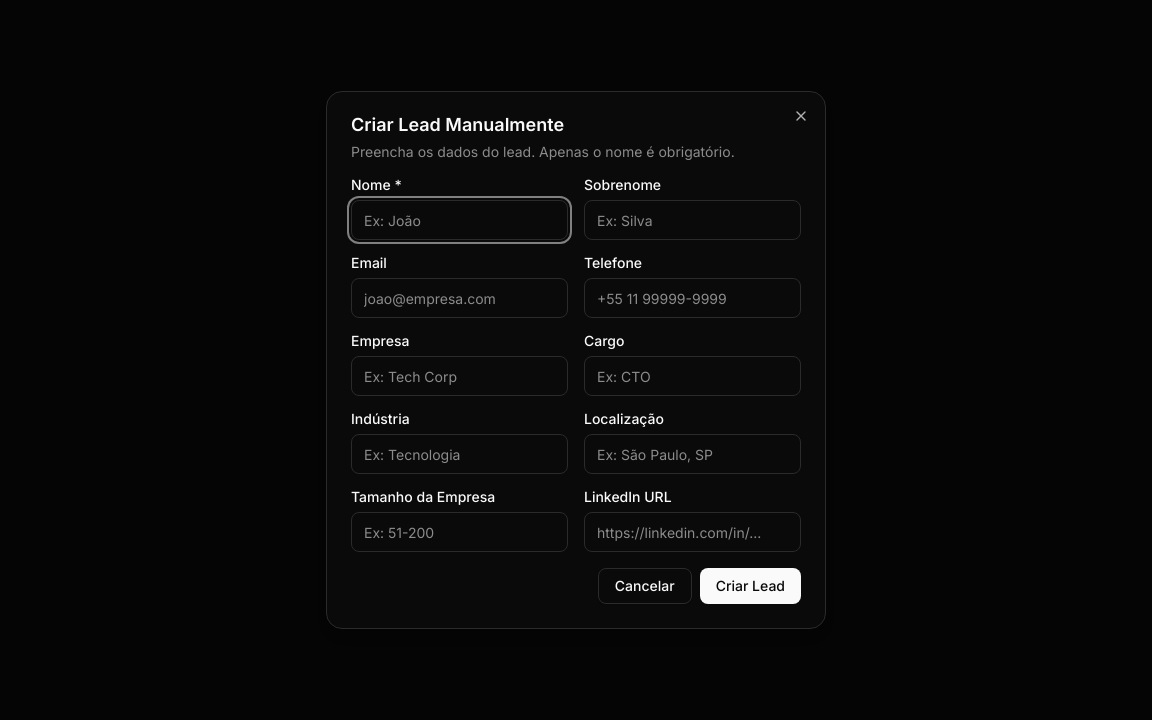
Test: CreateLeadDialog › should show validation error when firstName is empty
Click the button with test id "create-lead-submit".
click(750, 586)  # box [700, 568, 801, 604]
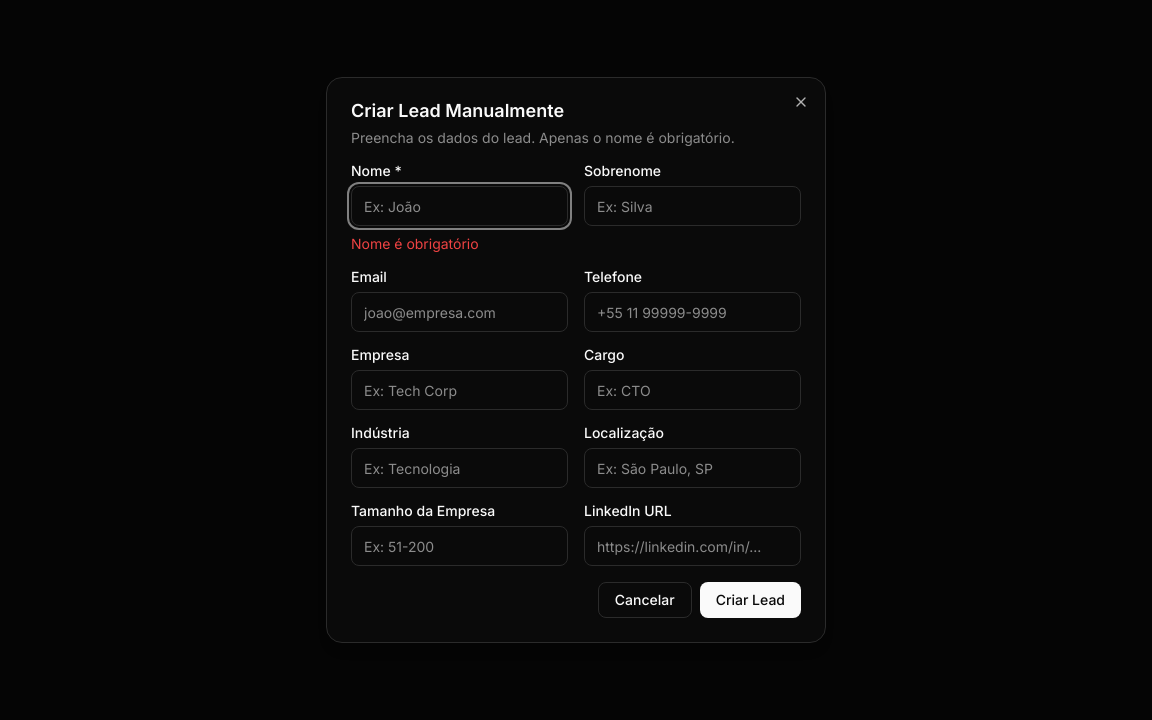
Now the text "Nome é obrigatório" is shown, box [351, 235, 479, 252]
